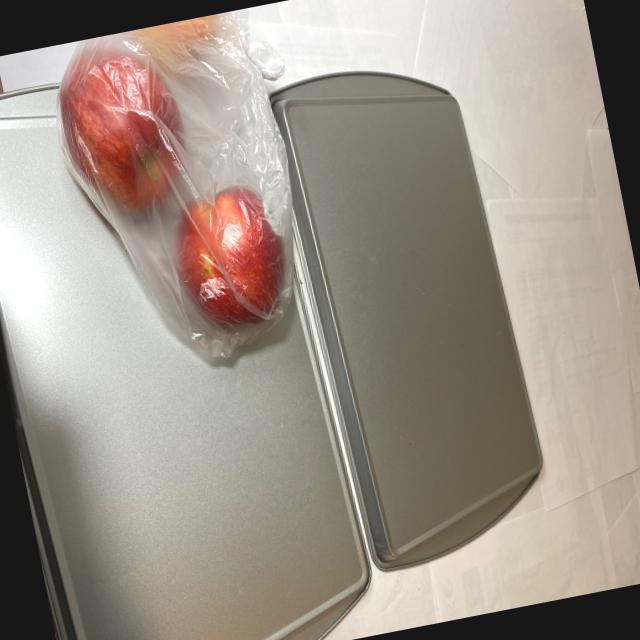apple: (39, 9, 301, 362)
